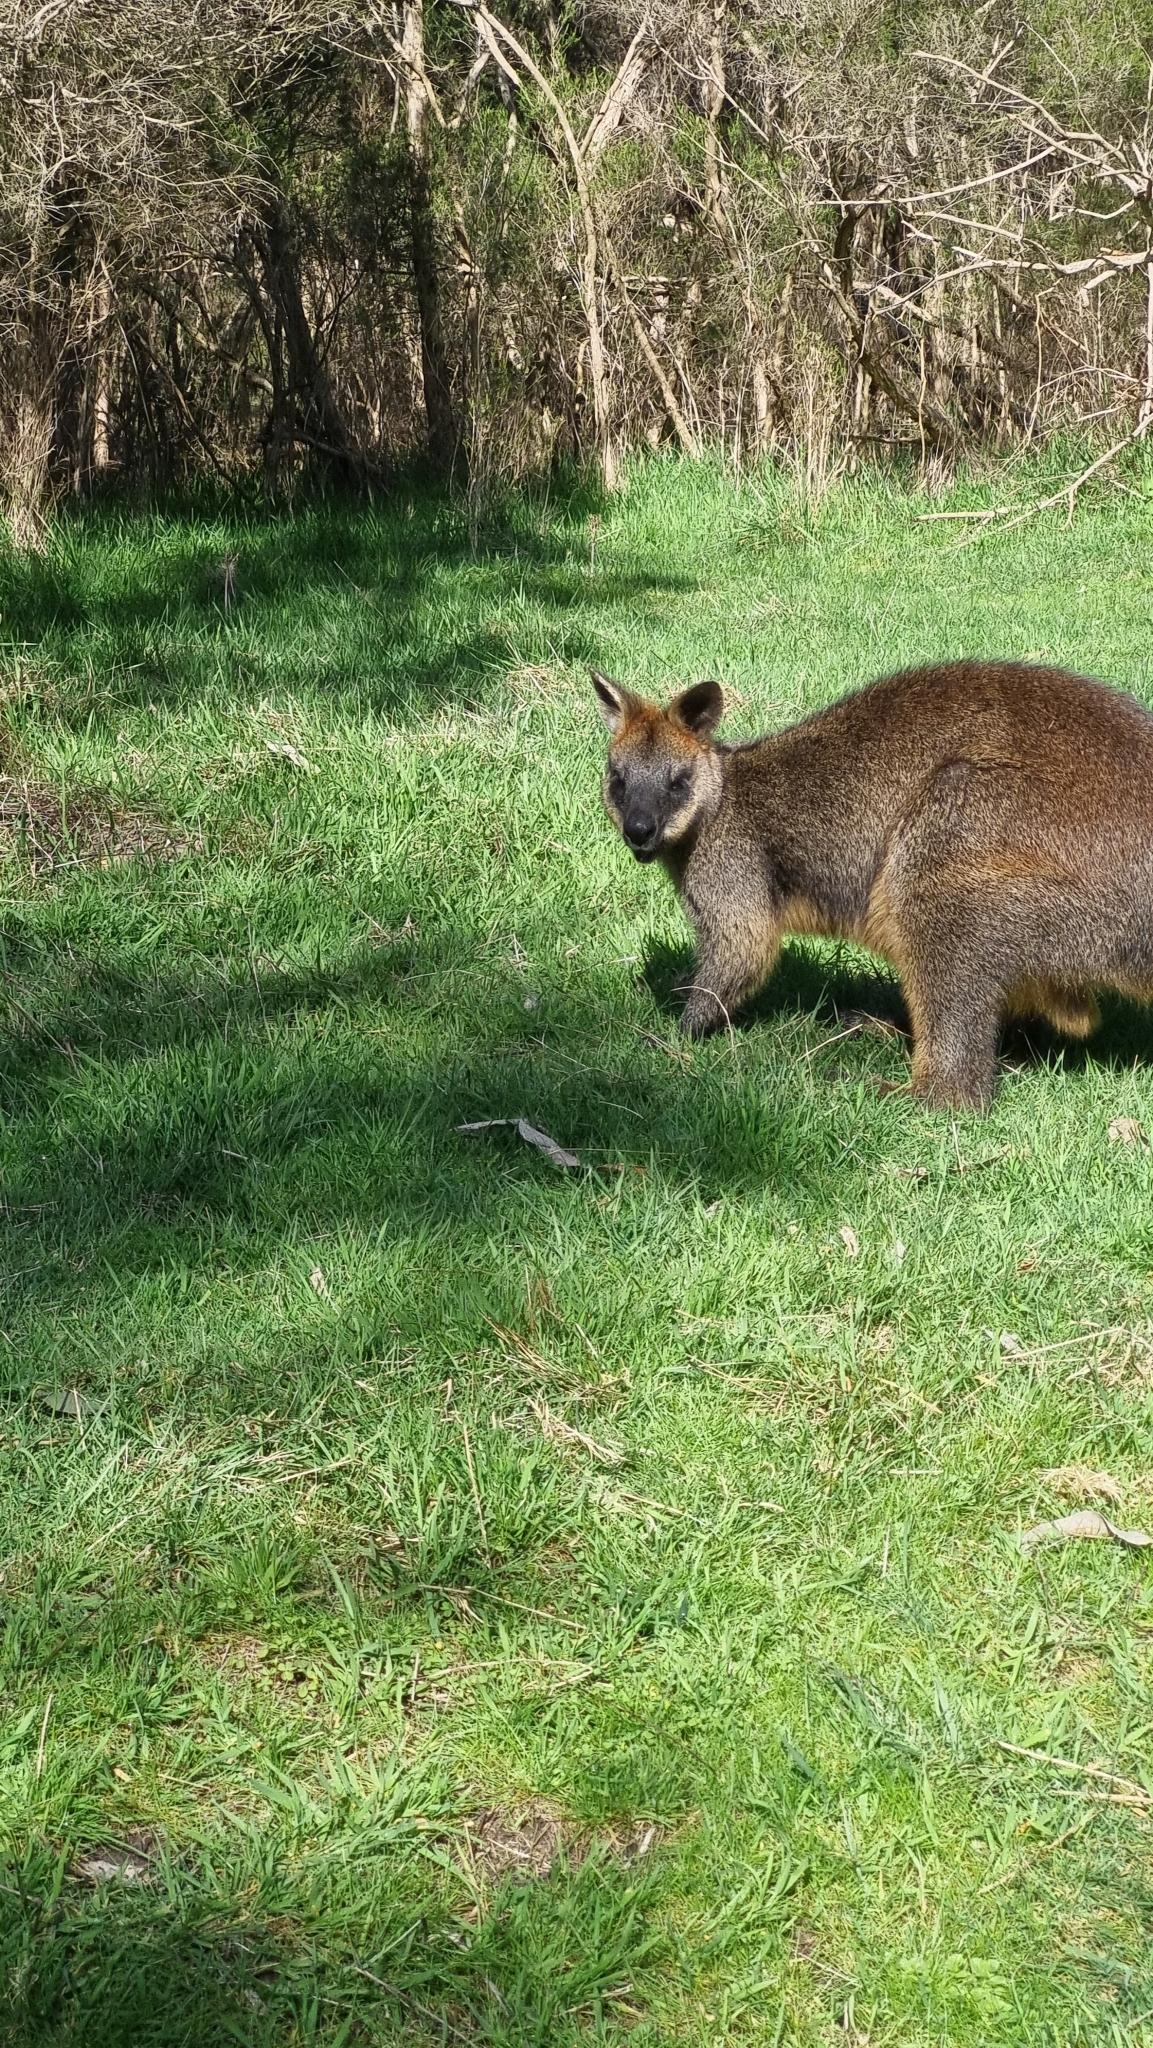Swamp wallaby: (578, 643, 1153, 1129)
